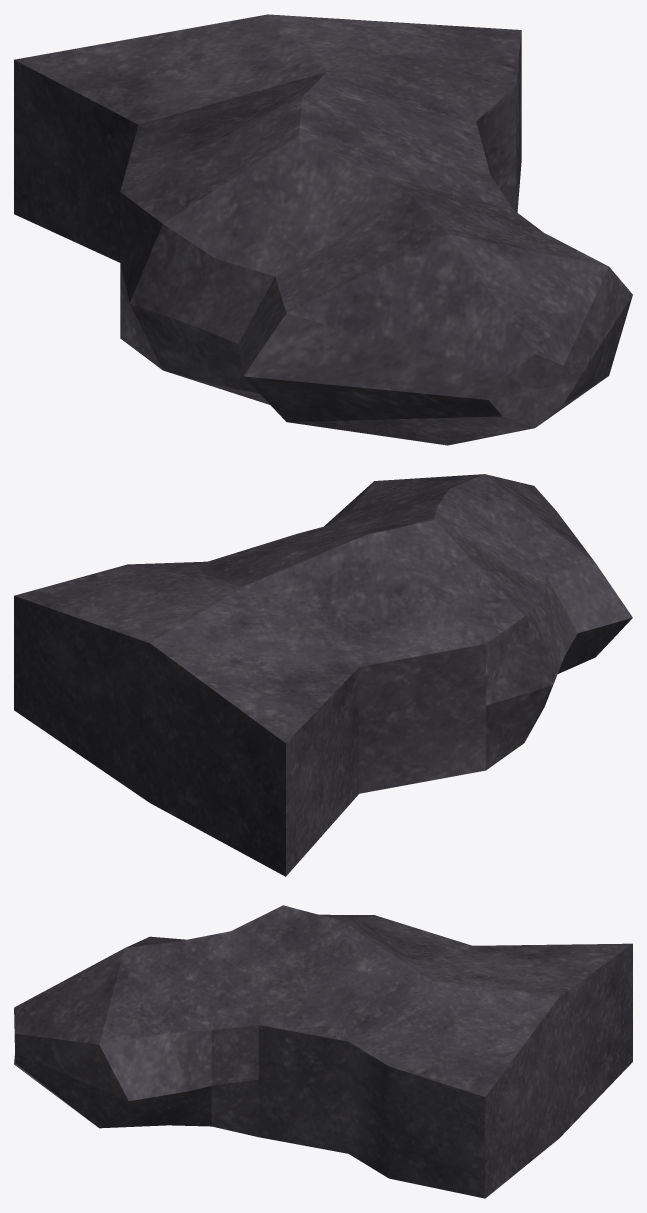
Rendered from Generic_Grip.fbx.
3 views of the same model, one above another, from view 1: azimuth 30°, elevation 25°; view 2: azimuth 150°, elevation 25°; view 3: azimuth 270°, elevation 25° (orthographic). The views are drawn at different scales.
Visible parts, largest first — view 1: Genric Grip; view 2: Genric Grip; view 3: Genric Grip.
Part boxes in pixels (left/top/right/bottom): Genric Grip: left=14, top=14, right=632, bottom=445; Genric Grip: left=14, top=474, right=632, bottom=876; Genric Grip: left=14, top=905, right=632, bottom=1198.
Size of the model in its own units: 55.95 by 29.36 by 77.15.
